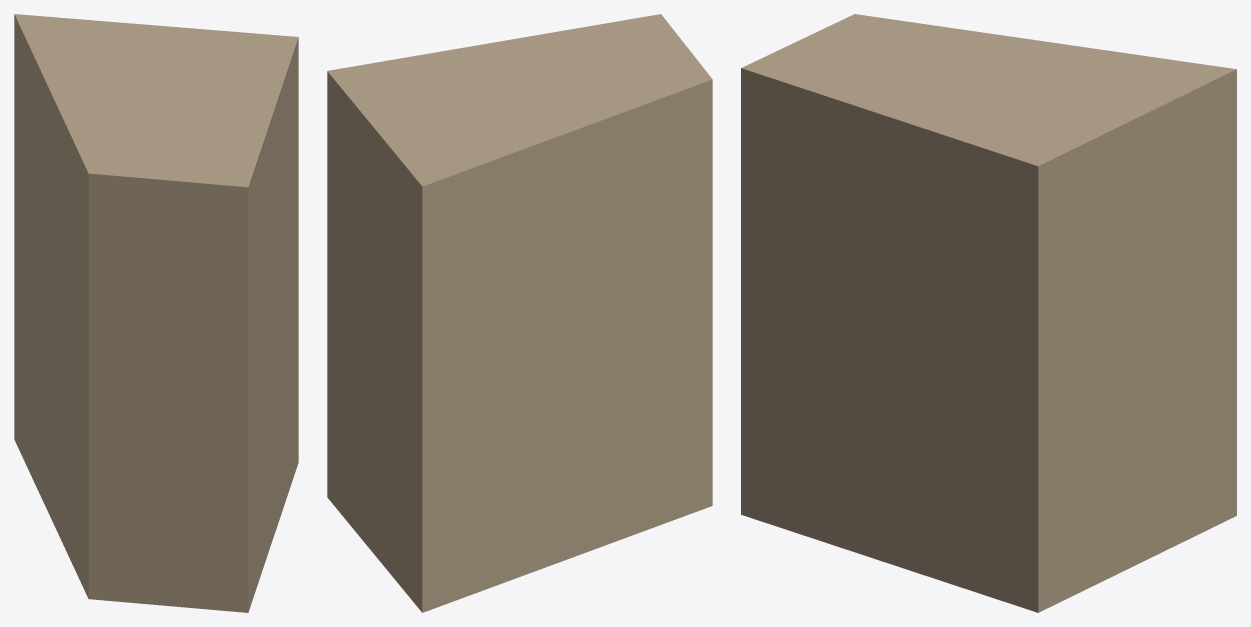
File: bld_101353676.dae
3 renders of one model, left to right at view 1: azimuth 30°, elevation 25°; view 2: azimuth 150°, elevation 25°; view 3: azimuth 270°, elevation 25°, orthographic. The views are drawn at different scales.
Parts seen in each view (by area): view 1: bld_101353676; view 2: bld_101353676; view 3: bld_101353676.
Part boxes in pixels (x1,y1,x2,y2): bld_101353676: (14,14,298,612); bld_101353676: (327,14,712,612); bld_101353676: (741,14,1236,612).
Size of the model in its own units: 5.85 by 8.05 by 8.
